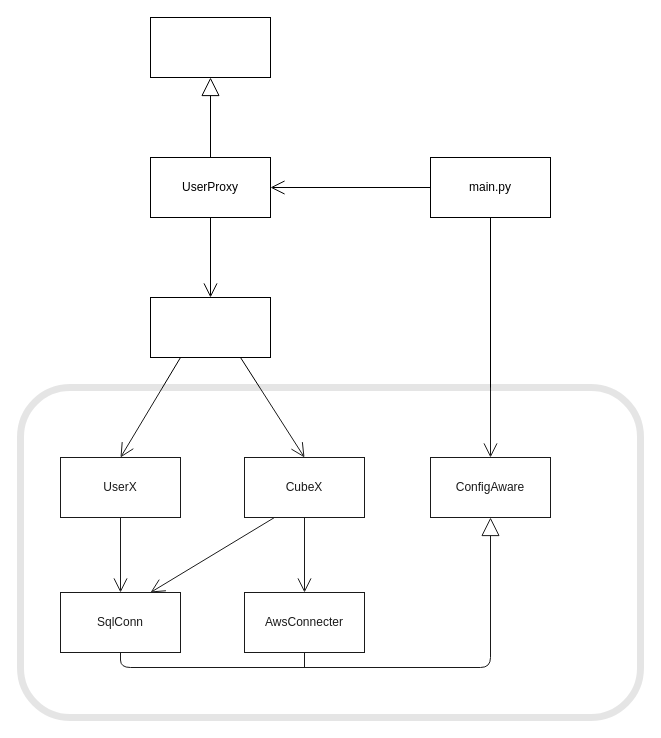
Some shapes in this 661 by 738 pixel diagram are drawn without their labels. Each missing label, with the centre of its shape:
"ConvMachine" goes at point 210,327.
"Handler (telegram.ext.handler)" goes at point 210,47.
